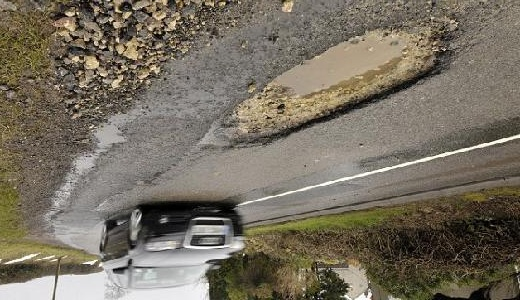pothole: (196, 27, 453, 150)
